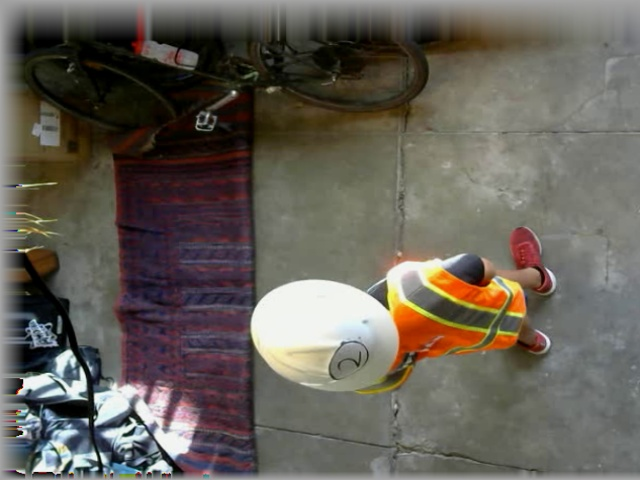two: (326, 338, 368, 380)
